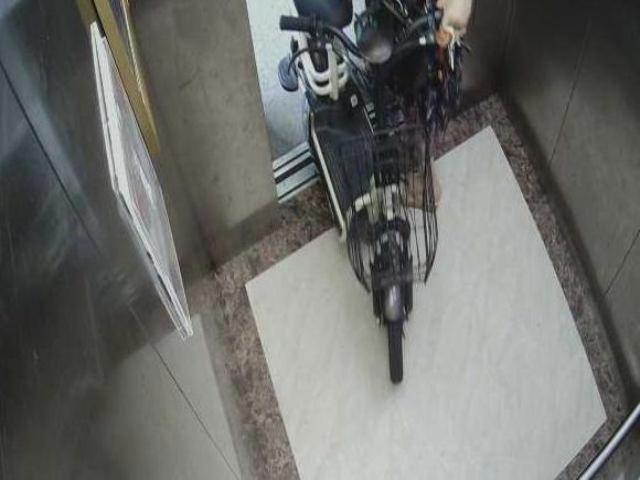emotor: (272, 7, 447, 377)
